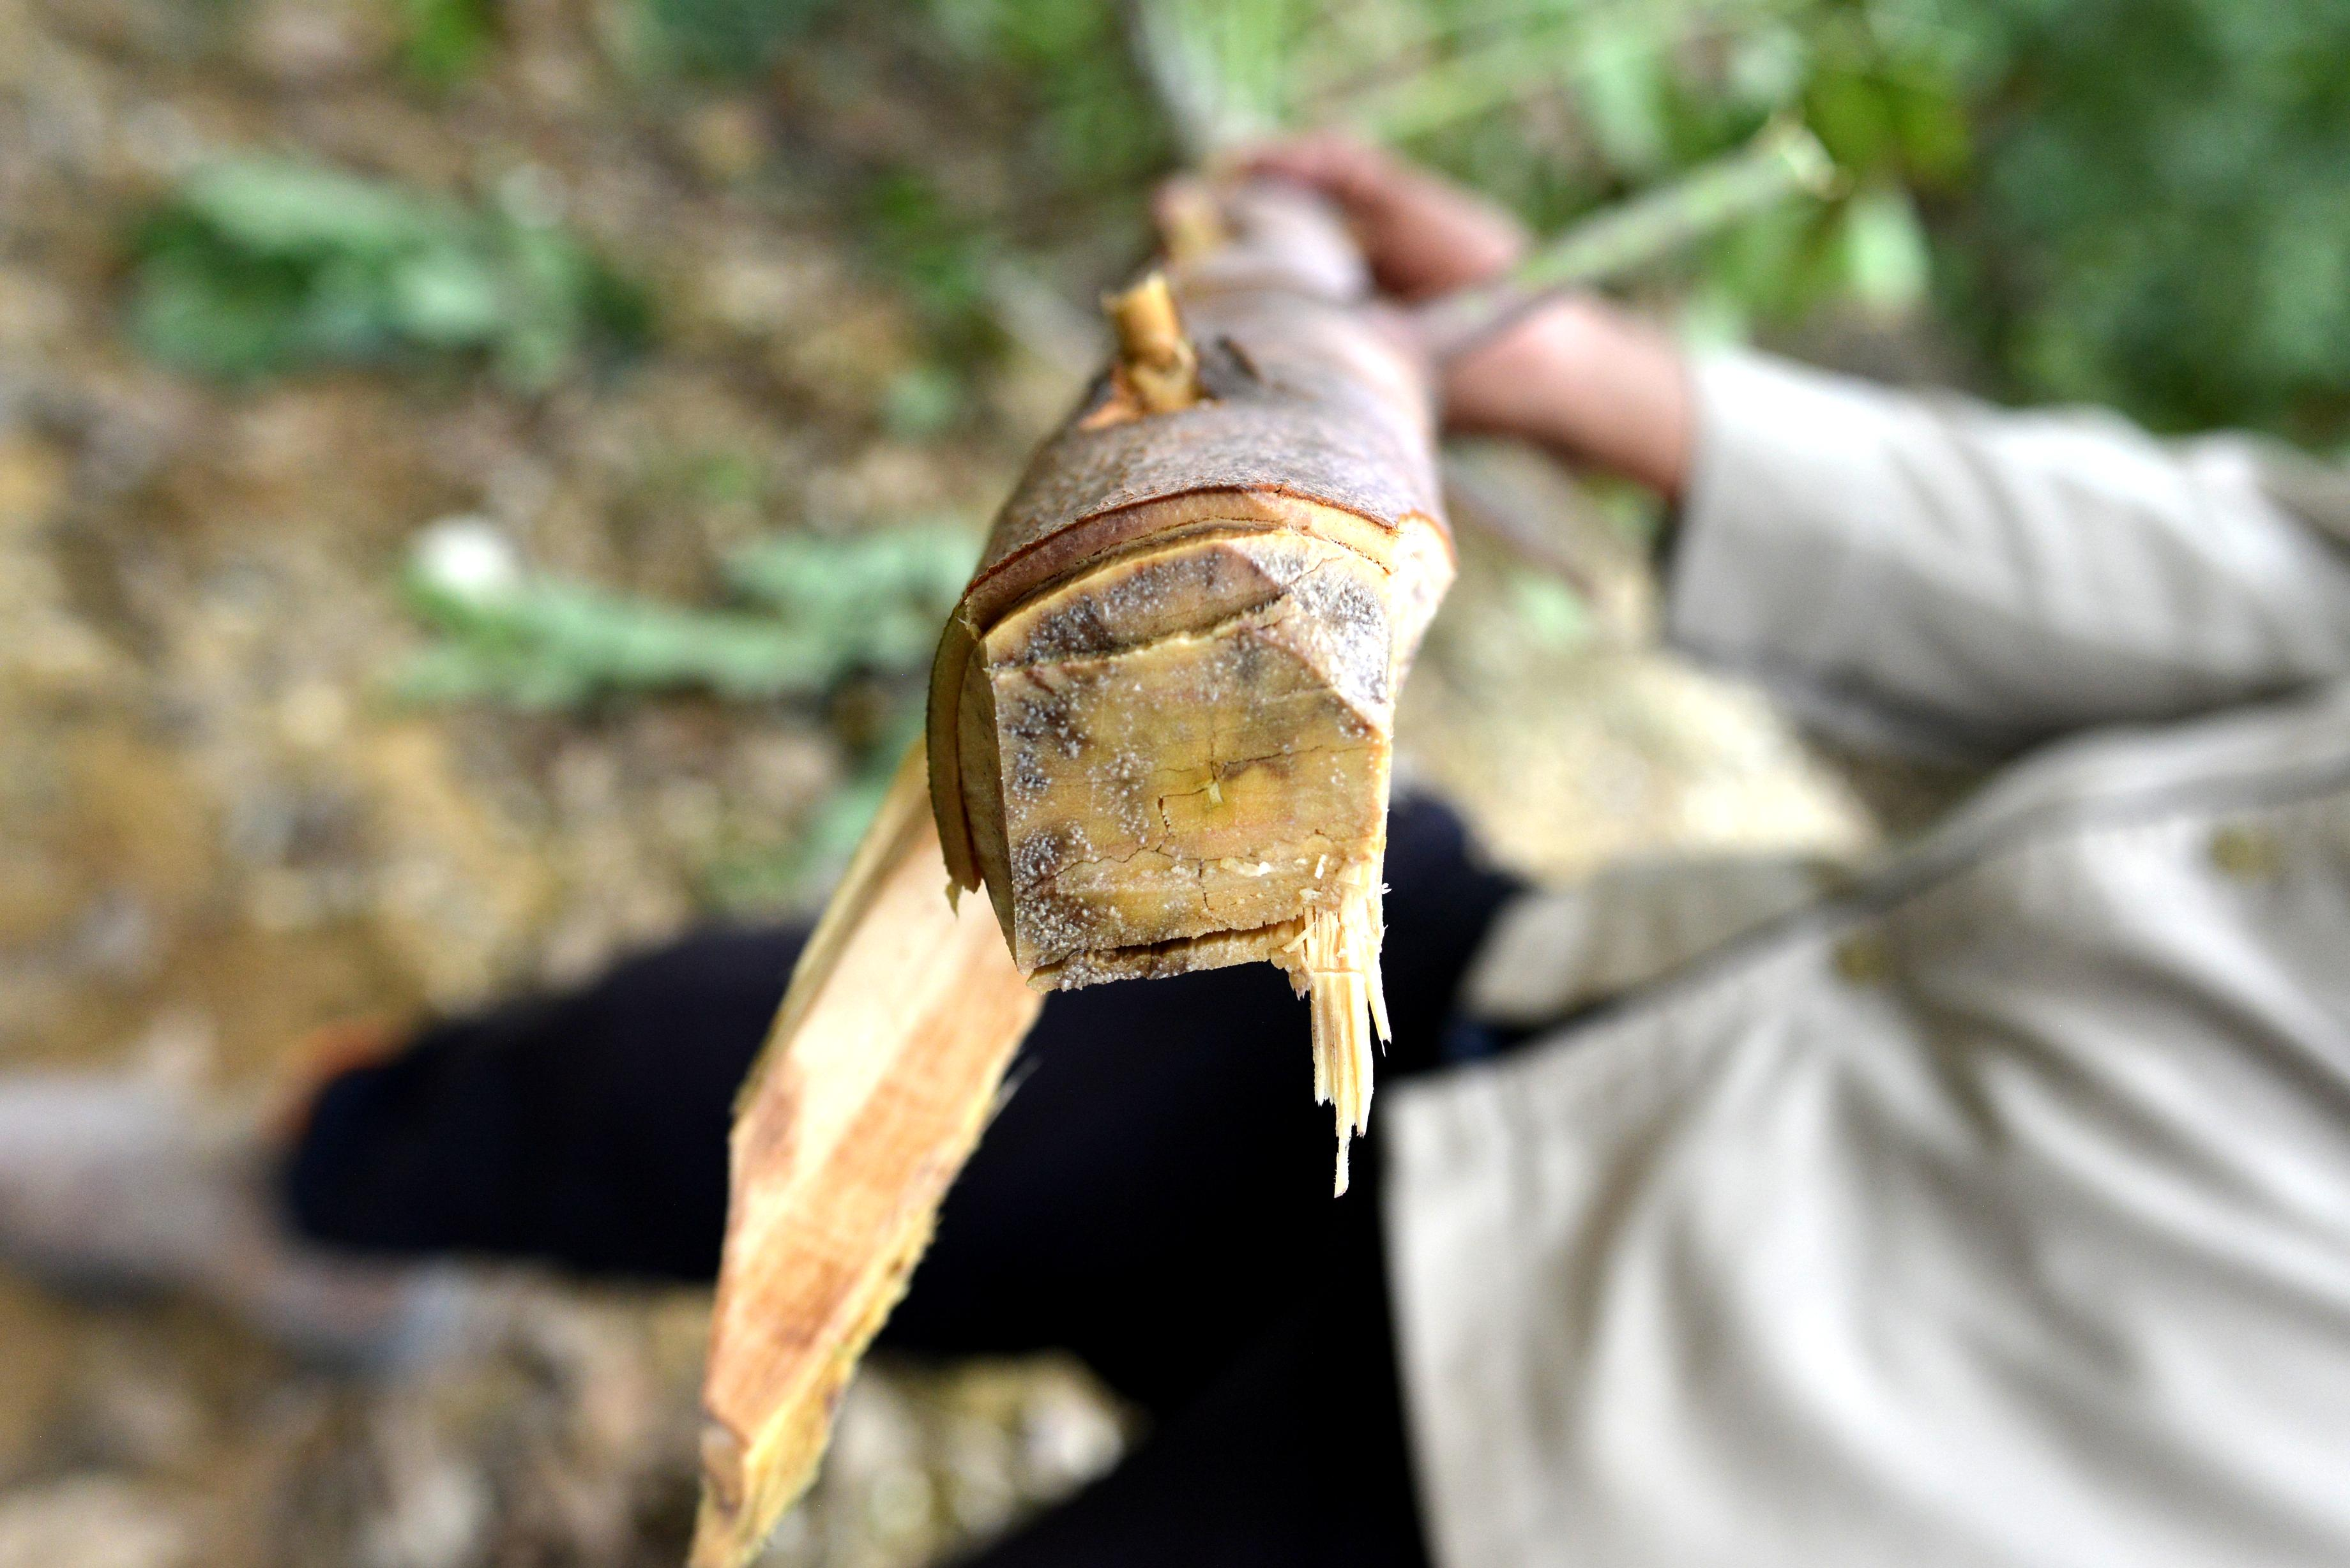Ralstonia: (1003, 658, 1130, 994), (1020, 527, 1374, 647), (1146, 859, 1249, 964), (1293, 654, 1388, 733)
